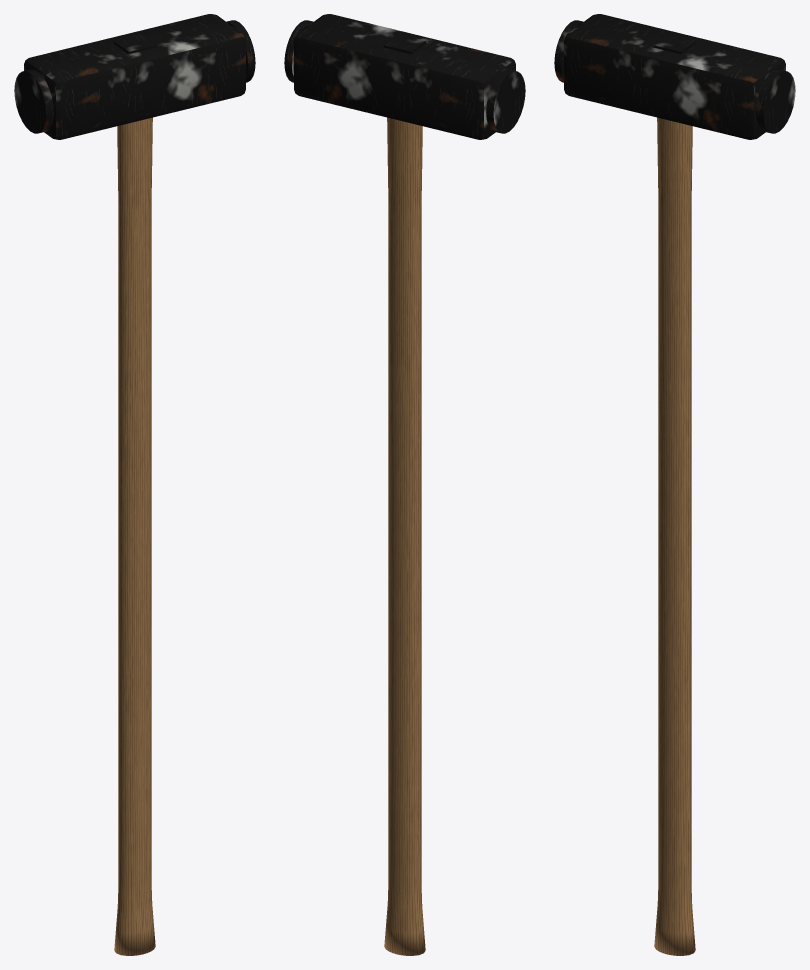
File: sledgehammer.glb
3 renders of one model, left to right at view 1: azimuth 30°, elevation 25°; view 2: azimuth 150°, elevation 25°; view 3: azimuth 330°, elevation 25°, orthographic.
Parts seen in each view (by area): view 1: Sledgehammer_Clean_handle, Sledgehammer_Clean_head; view 2: Sledgehammer_Clean_handle, Sledgehammer_Clean_head; view 3: Sledgehammer_Clean_handle, Sledgehammer_Clean_head.
Boxes of the visible parts, <box> form: Sledgehammer_Clean_handle: <box>114,117,155,955</box>; Sledgehammer_Clean_head: <box>14,14,255,139</box>; Sledgehammer_Clean_handle: <box>384,117,425,955</box>; Sledgehammer_Clean_head: <box>284,14,525,139</box>; Sledgehammer_Clean_handle: <box>654,117,695,955</box>; Sledgehammer_Clean_head: <box>554,14,795,139</box>.
Bounding box in the file's own units: 0.226 × 0.935 × 0.065.
Materials: 2 (2 with a texture image).
